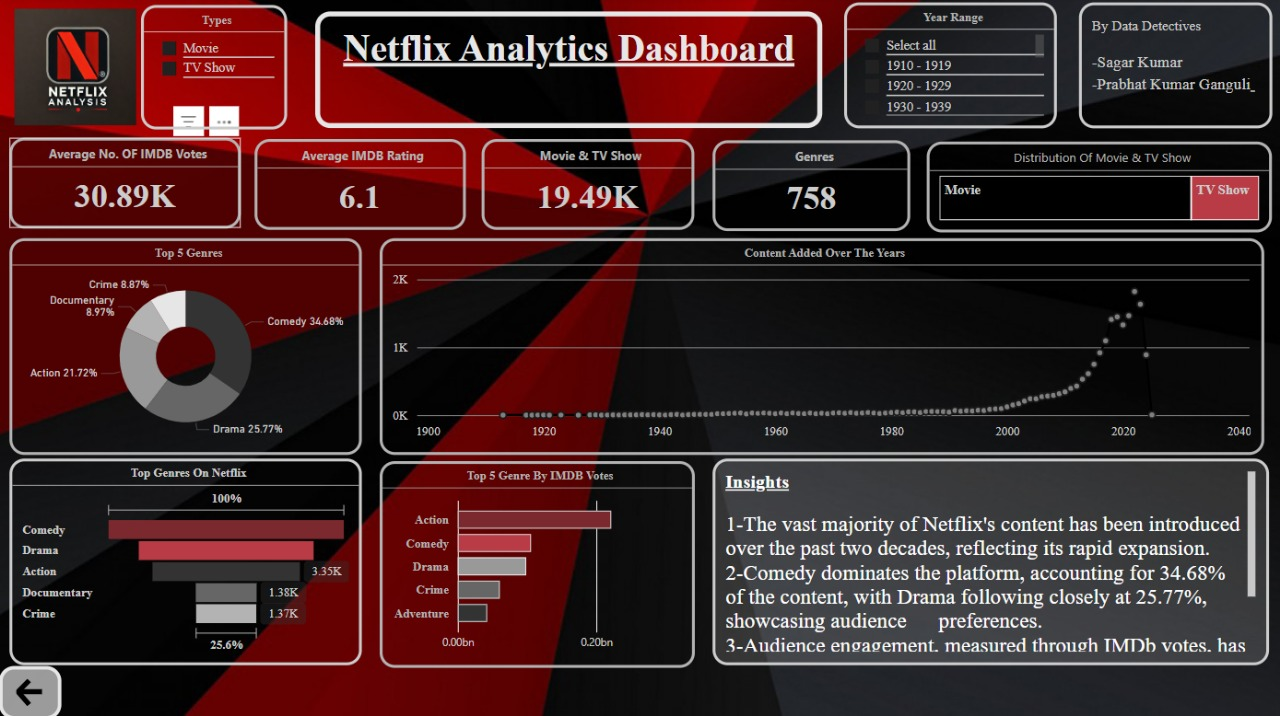

This screenshot's page, from the dashboard's own definition file:
{"tool":"powerbi","page":{"name":"Page 2","canvas":[1280,720],"ordinal":1},"visuals":[{"type":"card","title":"Movie & TV Show","fields":{"Values":["CountNonNull(netflix netflix.title)"]},"box":[481.4,141.2,211.9,90.8],"z":0},{"type":"card","title":"Average No. OF IMDB Votes","fields":{"Values":["Avg(netflix netflix.imdbNumVotes)"]},"box":[10.1,139.8,230.6,90.8],"z":1000},{"type":"card","title":"Genres","fields":{"Values":["Count(netflix netflix.genres)"]},"box":[711.9,142.7,197.4,90.8],"z":2000},{"type":"card","title":"Average IMDB Rating","fields":{"Values":["Avg(netflix netflix.imdbAverageRating)"]},"box":[255.1,141.2,210.4,90.8],"z":3000},{"type":"slicer","title":"Year Range","fields":{"Values":["netflix netflix.Year Range"]},"box":[843.1,5.8,211.9,125.4],"z":4000},{"type":"treemap","title":"Distribution Of Movie & TV Show","fields":{"Values":["CountNonNull(netflix netflix.type)"],"Details":["netflix netflix.type"]},"box":[925.2,144.1,344.4,90.8],"z":5000},{"type":"slicer","title":"Types","fields":{"Values":["netflix netflix.type"]},"box":[141.2,7.2,145.6,123.9],"z":7000},{"type":"textbox","box":[315.6,14.4,505.9,116.7],"z":8000},{"type":"textbox","box":[1076.6,5.8,193.1,125.4],"z":9000},{"type":"image","box":[10.1,0,131.1,139.8],"z":11000},{"type":"funnel","title":"Top Genres On Netflix","fields":{"Category":["netflix netflix.FirstGenre"],"Y":["CountNonNull(netflix netflix.title)"]},"box":[10.1,461.2,351.6,206.1],"z":11001},{"type":"lineChart","title":"Content Added Over The Years","fields":{"Y":["CountNonNull(netflix netflix.title)"],"Category":["netflix netflix.releaseyear"]},"box":[379,240.7,882,216.2],"z":11002},{"type":"barChart","title":"Top 5 Genre By IMDB Votes","fields":{"Category":["netflix netflix.FirstGenre"],"Y":["Sum(netflix netflix.imdbNumVotes)"]},"box":[379,462.6,314.2,206.1],"z":11003},{"type":"donutChart","title":"Top 5 Genres","fields":{"Category":["netflix netflix.FirstGenre"],"Y":["CountNonNull(netflix netflix.title)"]},"box":[10.1,240.7,351.6,216.2],"z":11004},{"type":"textbox","box":[711.9,461.2,554.9,206.1],"z":11005},{"type":"actionButton","box":[0,667.3,62,53.3],"z":11006}]}

Visuals, with their boxes in screenshot pixels (x1, y1, x2, y2), scaled from the page's 1280x720 canvas onto the 1280x716 screenshot:
"Movie & TV Show" card: <box>481,140,693,231</box>
"Average No. OF IMDB Votes" card: <box>10,139,241,229</box>
"Genres" card: <box>712,142,909,232</box>
"Average IMDB Rating" card: <box>255,140,466,231</box>
"Year Range" slicer: <box>843,6,1055,130</box>
"Distribution Of Movie & TV Show" treemap: <box>925,143,1270,234</box>
"Types" slicer: <box>141,7,287,130</box>
textbox: <box>316,14,822,130</box>
textbox: <box>1077,6,1270,130</box>
image: <box>10,0,141,139</box>
"Top Genres On Netflix" funnel: <box>10,459,362,664</box>
"Content Added Over The Years" lineChart: <box>379,239,1261,454</box>
"Top 5 Genre By IMDB Votes" barChart: <box>379,460,693,665</box>
"Top 5 Genres" donutChart: <box>10,239,362,454</box>
textbox: <box>712,459,1267,664</box>
actionButton: <box>0,664,62,715</box>
